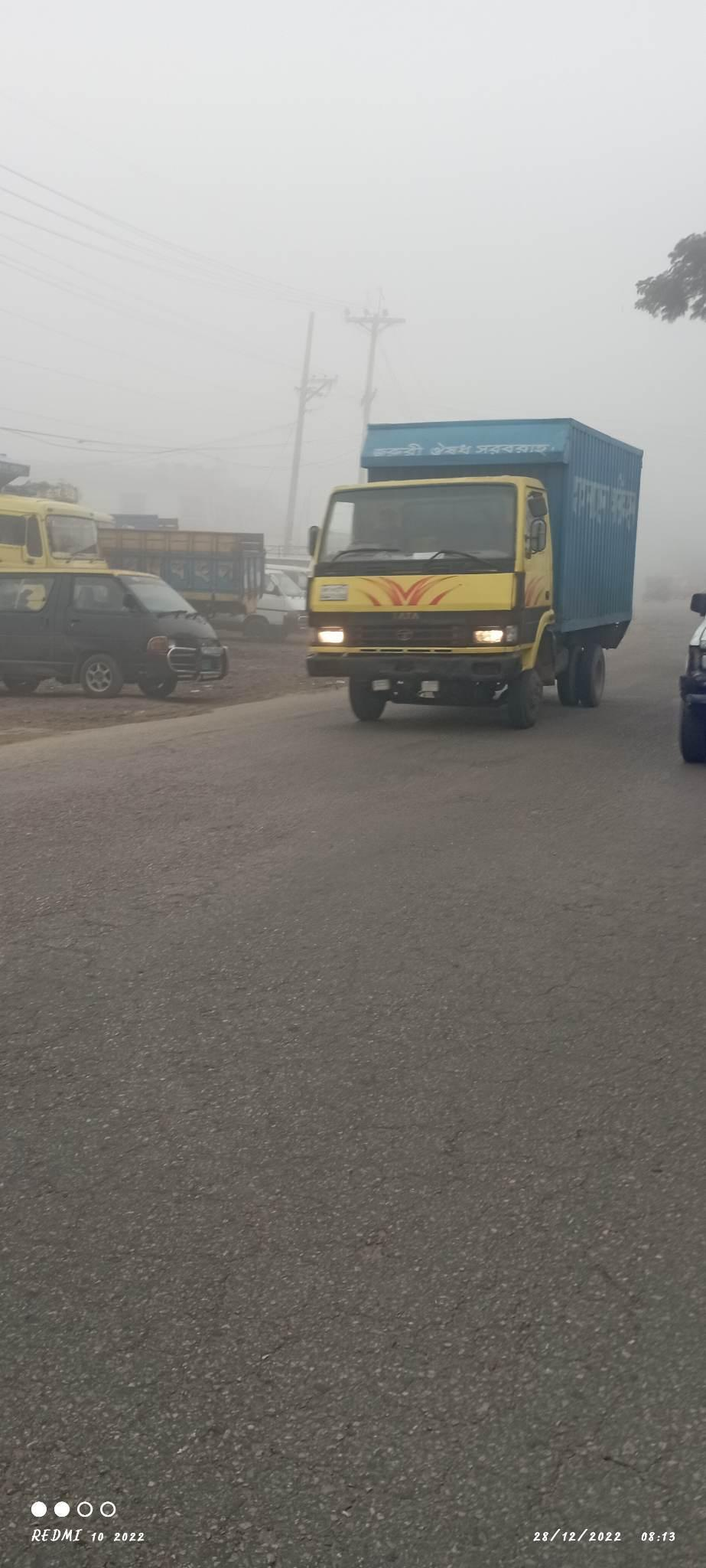Car: (2, 543, 240, 738)
Truck: (289, 396, 657, 753), (96, 495, 273, 627)
